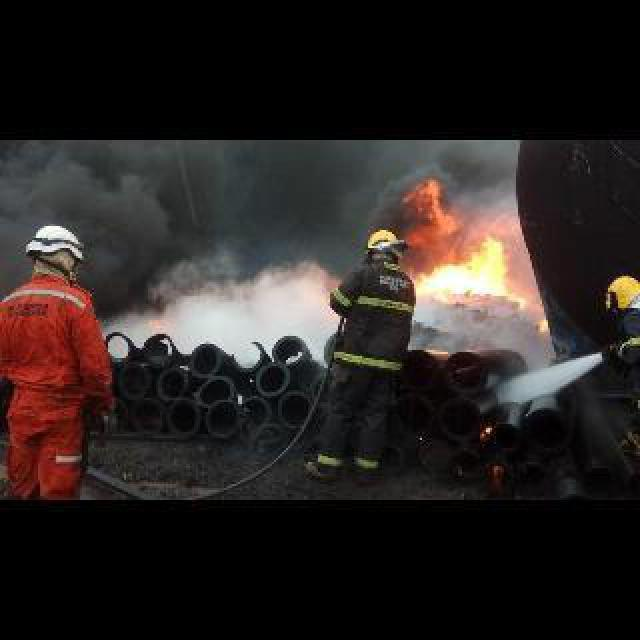Fire: (396, 178, 528, 306), (536, 316, 550, 330)
Smoke: (2, 138, 424, 224), (94, 238, 330, 364)
